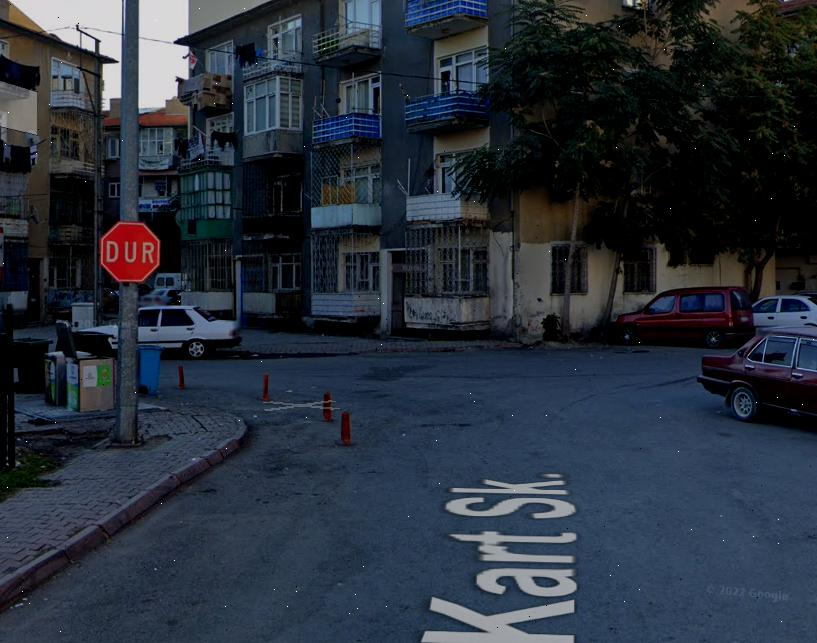stop: (101, 223, 160, 283)
